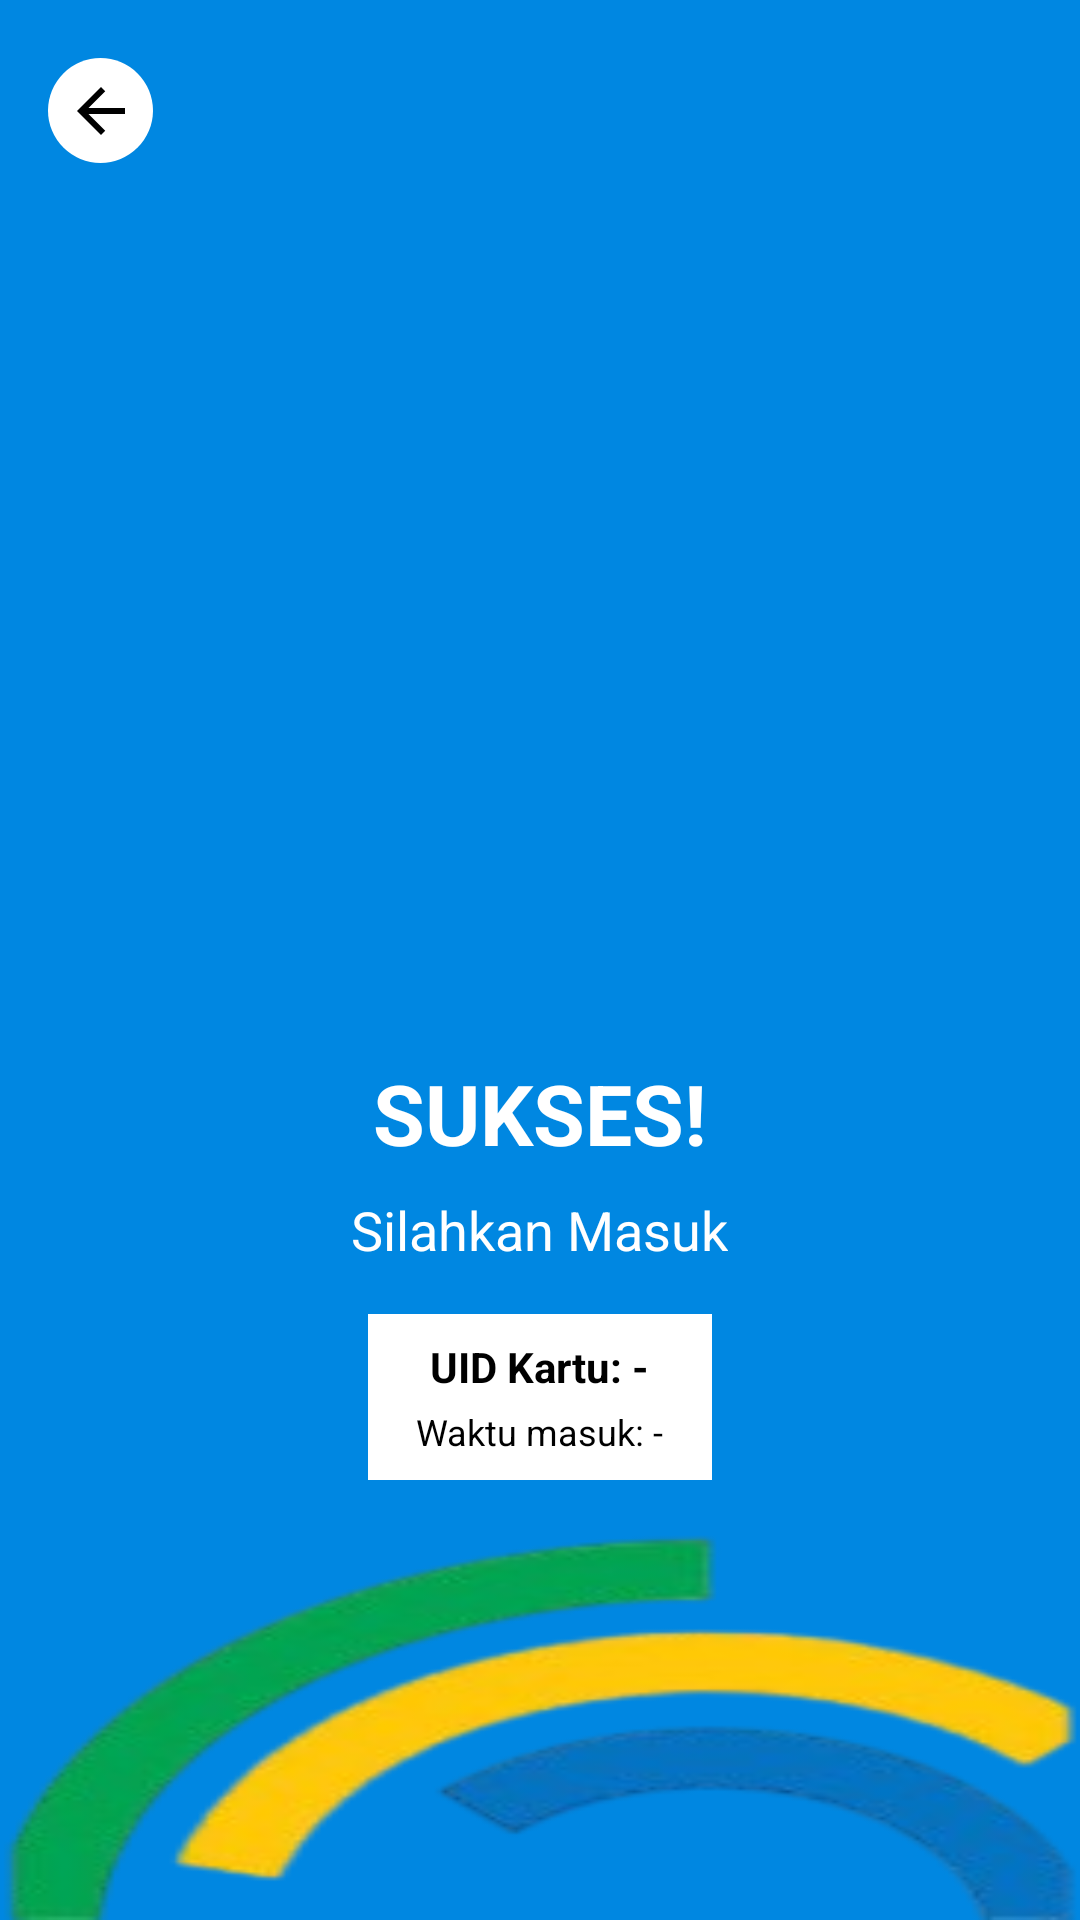

Named icons in this screenshot (1080x1920) and their centers, (x=x, y=y):
Tombol Kembali: (x=100, y=110)
